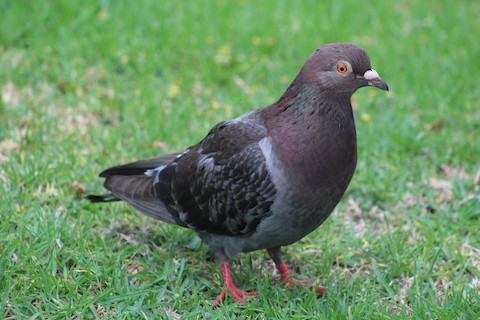pigeon: (90, 38, 395, 312)
